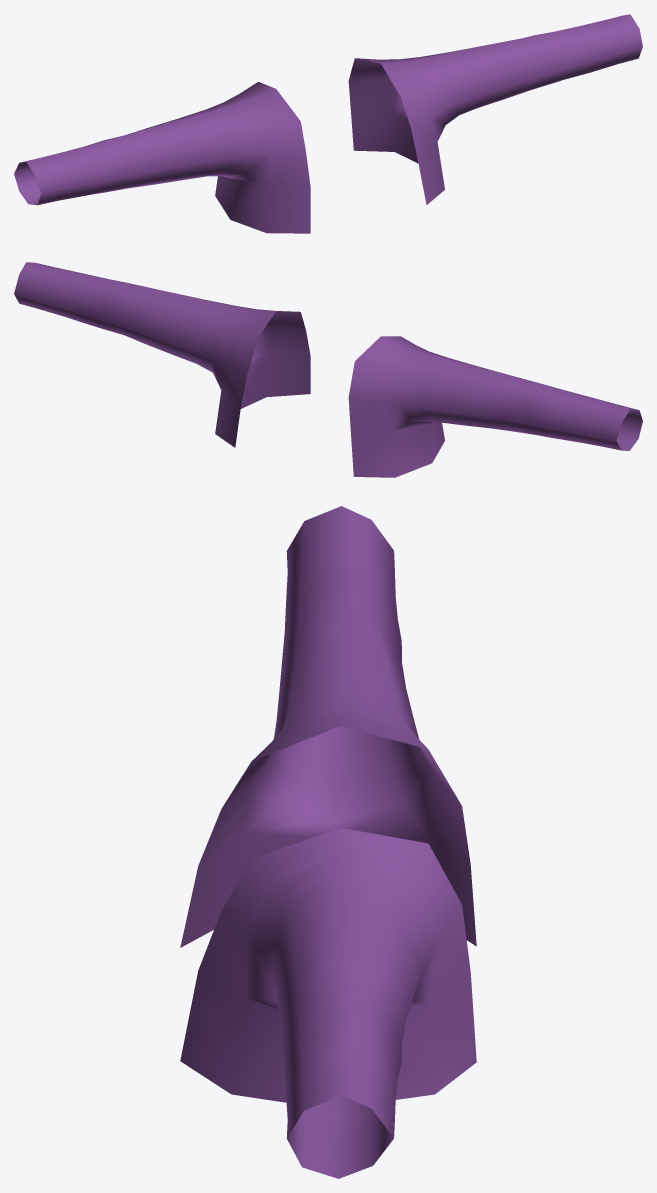
File: Body_Purple_ArmB_2.fbx
3 views of the same model, one above another, from view 1: azimuth 30°, elevation 25°; view 2: azimuth 150°, elevation 25°; view 3: azimuth 270°, elevation 25° (orthographic). The views are drawn at different scales.
Visible parts, largest first — view 1: Body_Purple_ArmB_2; view 2: Body_Purple_ArmB_2; view 3: Body_Purple_ArmB_2.
Part boxes in pixels (x1,y1,x2,y2): Body_Purple_ArmB_2: [14, 14, 642, 233]; Body_Purple_ArmB_2: [14, 262, 642, 477]; Body_Purple_ArmB_2: [180, 506, 476, 1178].
Bounding box in the file's own units: 95.86 × 17.74 × 20.37.
